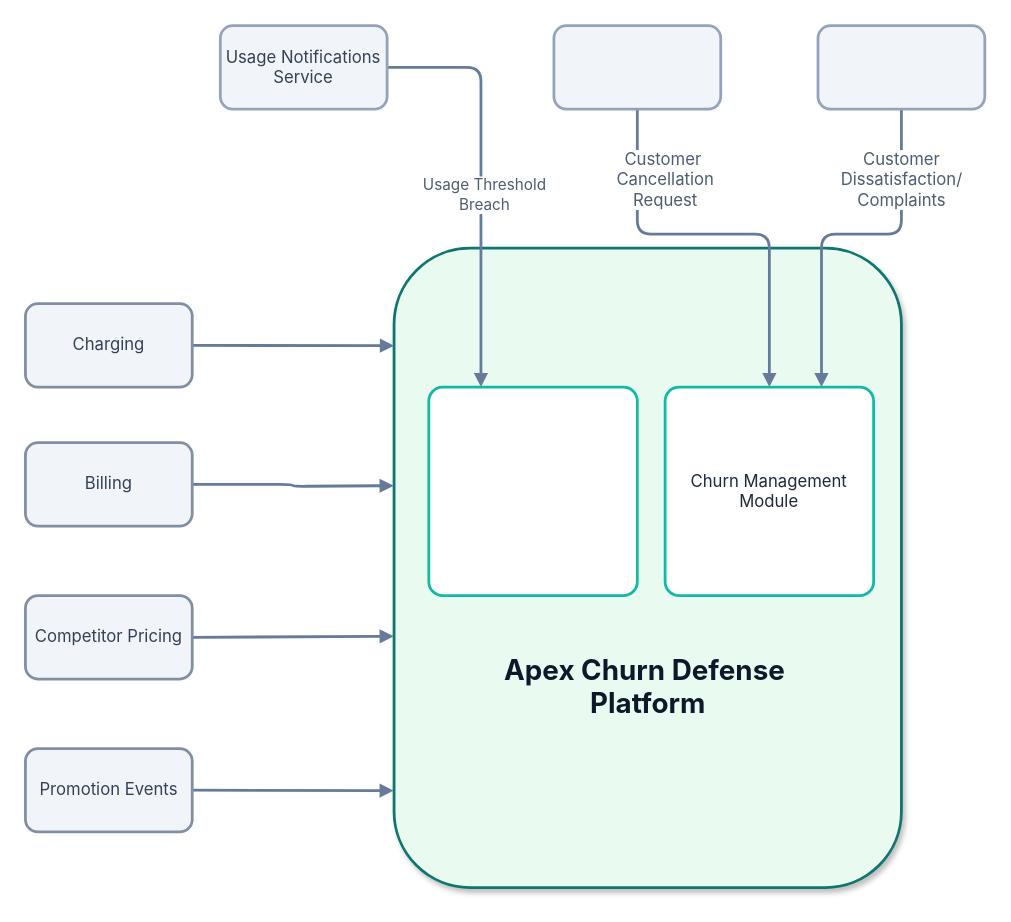
The diagram is 1011 pixels wide and 922 high, and some of its shapes have lost their labels. Each missing label, with the centre of its shape:
"Grievance Event Service" goes at [901,67].
"Revenue Expansion Service" goes at [532,490].
"Termination Request Service" goes at [636,67].
